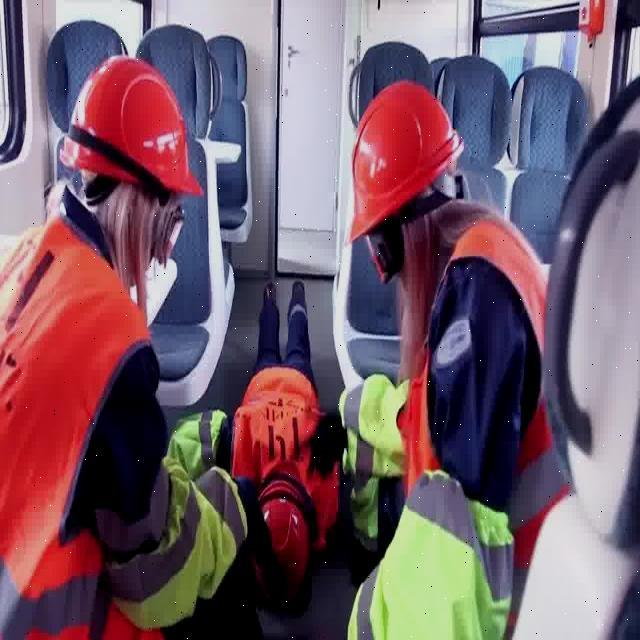Helmet: (58, 54, 204, 198), (347, 80, 461, 244), (248, 505, 318, 598)
Person: (0, 54, 339, 639), (342, 80, 569, 638), (206, 266, 337, 600)
Safety Boot: (257, 278, 309, 309)
Safety Vest: (0, 213, 167, 638), (429, 265, 554, 531), (244, 380, 317, 469)
